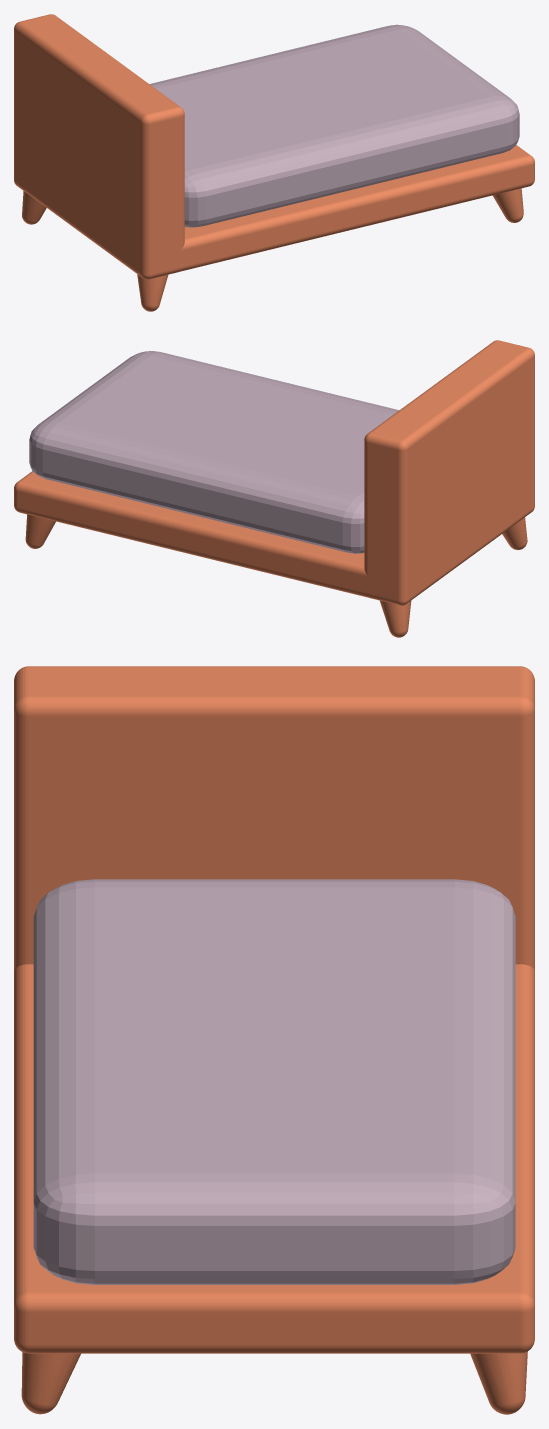
The model's file is Bed.fbx.
3 renders of one model, top to bottom at view 1: azimuth 30°, elevation 25°; view 2: azimuth 150°, elevation 25°; view 3: azimuth 270°, elevation 25°, orthographic. The views are drawn at different scales.
Parts seen in each view (by area): view 1: BED BASE, MIZRAN.001; view 2: BED BASE, MIZRAN.001; view 3: MIZRAN.001, BED BASE.
Part boxes in pixels (left/top/right/bottom): BED BASE: left=14, top=14, right=534, bottom=311; MIZRAN.001: left=149, top=24, right=519, bottom=227; BED BASE: left=14, top=340, right=534, bottom=637; MIZRAN.001: left=29, top=351, right=399, bottom=553; MIZRAN.001: left=33, top=879, right=515, bottom=1284; BED BASE: left=14, top=666, right=534, bottom=1414.
Bounding box in the file's own units: 683 × 333 × 401.
